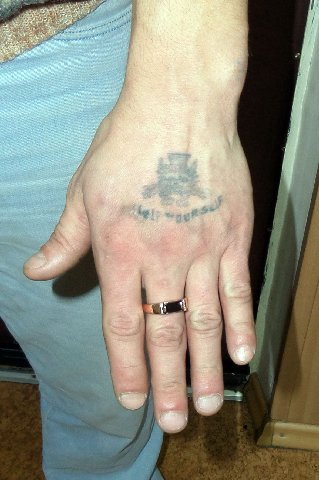tatu3_bukva: (133, 194, 228, 235)
tatu8_kot: (142, 148, 205, 204)
